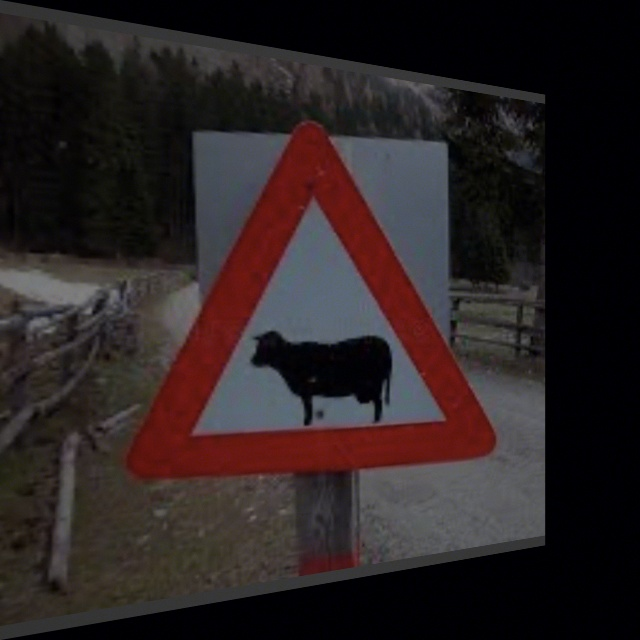Cattle: (159, 122, 484, 491)
